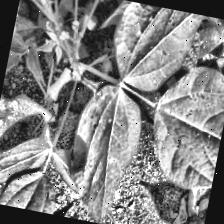ALS: (62, 78, 143, 224), (140, 62, 224, 193), (109, 1, 196, 96)
